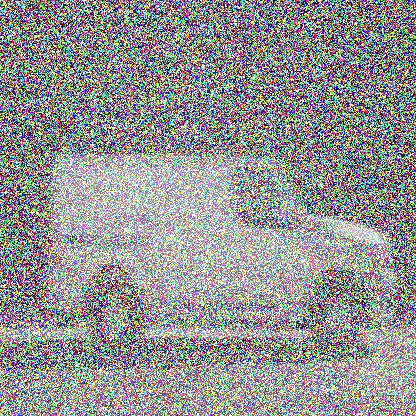Vehicle: (40, 150, 403, 361)
